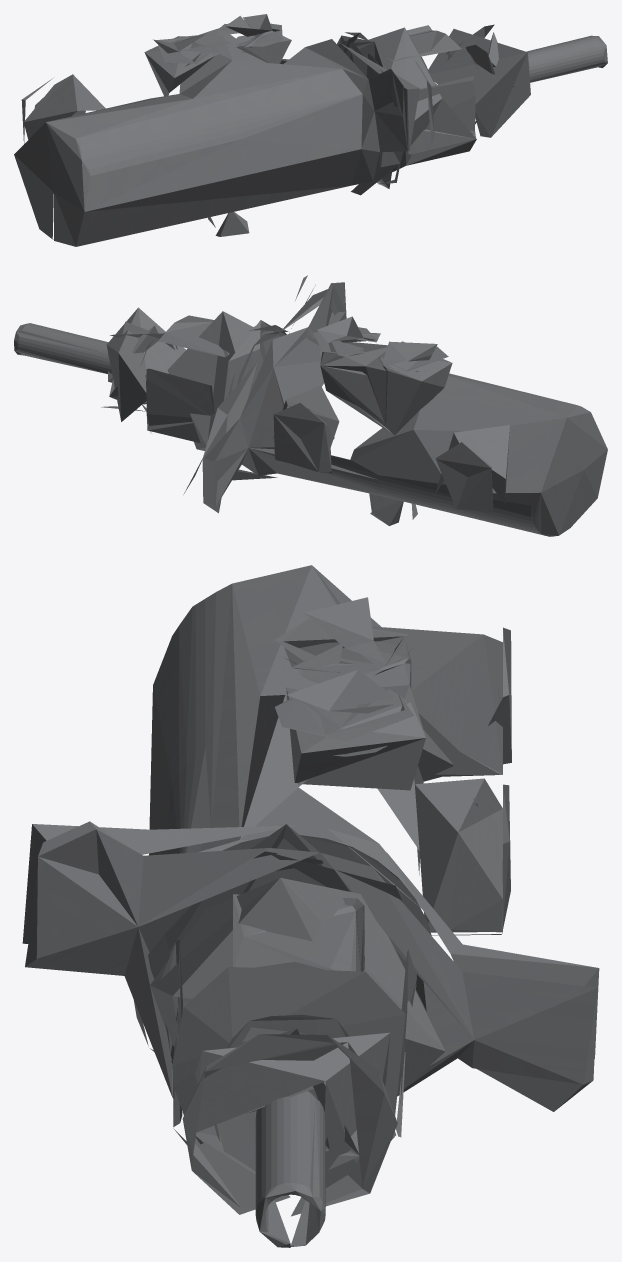
The model's file is brakeSystem_brake_master_cylinder_b01.glb.
3 renders of one model, top to bottom at view 1: azimuth 30°, elevation 25°; view 2: azimuth 150°, elevation 25°; view 3: azimuth 270°, elevation 25°, orthographic. The views are drawn at different scales.
Visible parts, largest first — view 1: geometry_0; view 2: geometry_0; view 3: geometry_0.
Boxes of the visible parts, x1,y1,x2,y2 form: geometry_0: (14,14,607,246); geometry_0: (14,275,607,536); geometry_0: (22,565,599,1247).
Size of the model in its own units: 0.42 by 0.1396 by 0.1894.
Materials: 1 (1 with a texture image).
